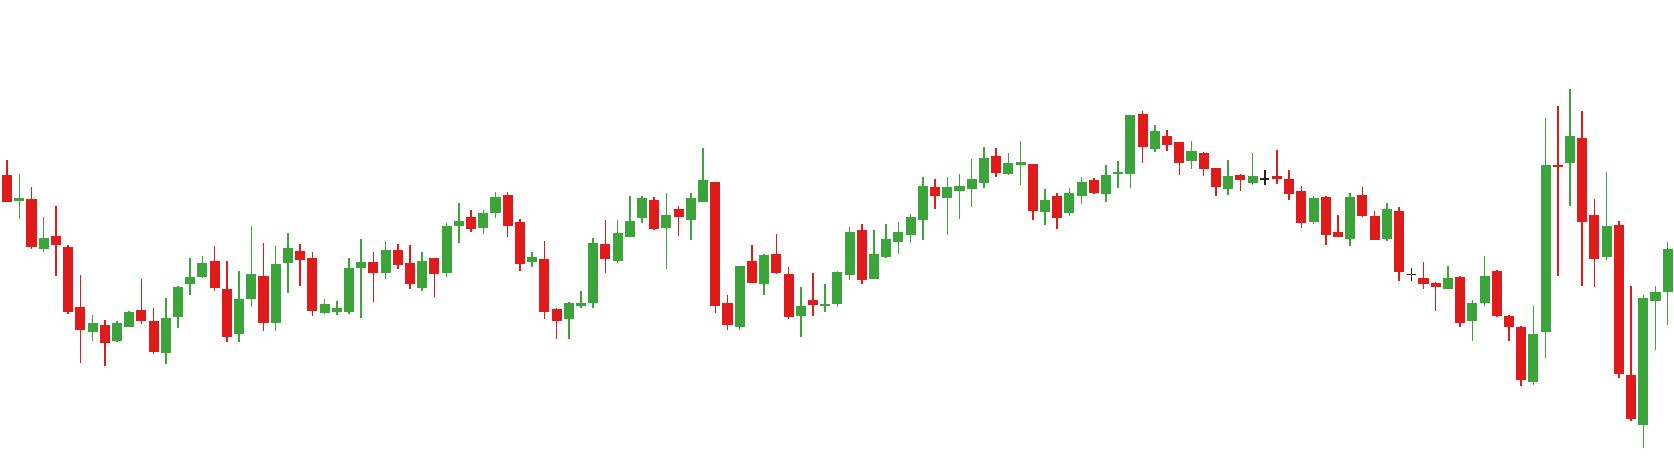buy: (1467, 292, 1539, 389)
sell: (1272, 91, 1590, 268)
